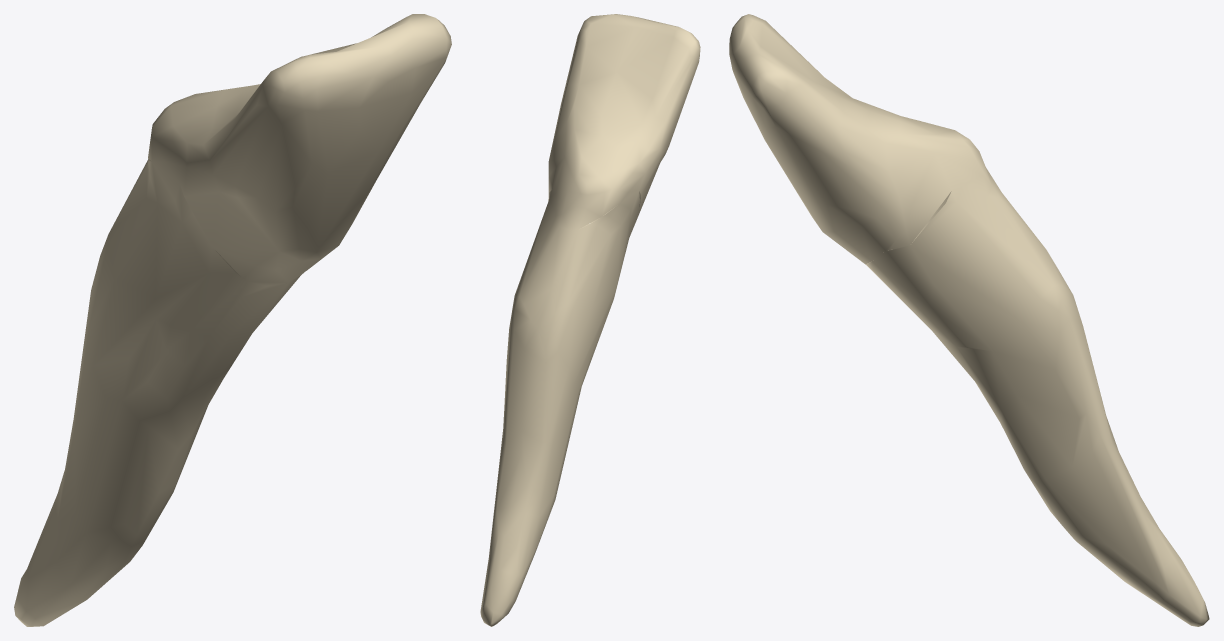
The model's file is esqueleto-lower-medial-incisor-l.glb.
The picture shows the model from 3 angles, left to right: view 1: azimuth 30°, elevation 25°; view 2: azimuth 150°, elevation 25°; view 3: azimuth 270°, elevation 25°; orthographic projection. The views are drawn at different scales.
Visible parts, largest first — view 1: Lower medial incisor.l; view 2: Lower medial incisor.l; view 3: Lower medial incisor.l.
Part boxes in pixels (<box>): Lower medial incisor.l: <box>14,14,451,626</box>; Lower medial incisor.l: <box>480,14,700,626</box>; Lower medial incisor.l: <box>729,14,1209,626</box>.
Bounding box in the file's own units: 0.00609 × 0.0247 × 0.0179.
